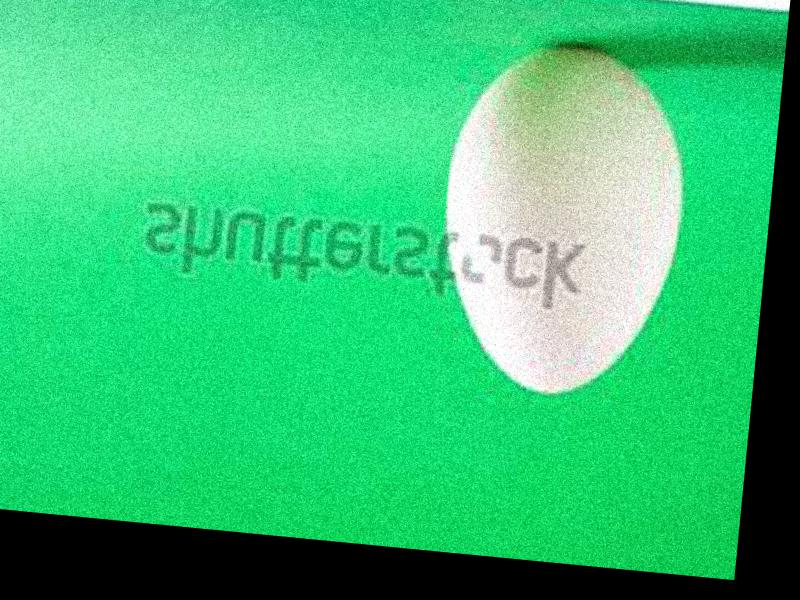Eggs: (430, 30, 698, 402)
